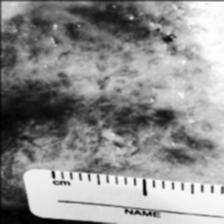Potentially Malignant Skin Tumors: (21, 0, 224, 168)
